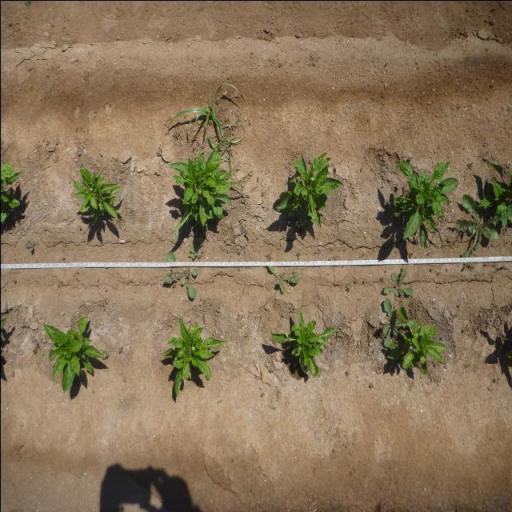plant: (390, 155, 459, 252), (274, 147, 344, 233), (159, 315, 227, 398), (166, 154, 230, 239), (43, 312, 103, 394), (271, 306, 337, 378), (70, 160, 123, 226), (399, 305, 447, 374), (476, 154, 512, 214), (0, 157, 23, 228)
weed: (168, 77, 249, 155), (454, 193, 512, 259), (159, 237, 205, 301), (378, 297, 402, 348), (380, 264, 415, 297), (266, 265, 300, 296), (23, 240, 38, 252), (30, 340, 41, 356), (460, 264, 474, 272), (294, 250, 302, 260), (466, 160, 474, 170), (101, 350, 108, 360), (491, 376, 500, 383), (117, 346, 124, 354), (345, 283, 352, 291), (368, 381, 374, 389), (267, 367, 274, 373), (344, 369, 350, 376), (378, 276, 384, 283), (460, 326, 466, 332), (259, 392, 264, 398), (437, 271, 440, 276)
